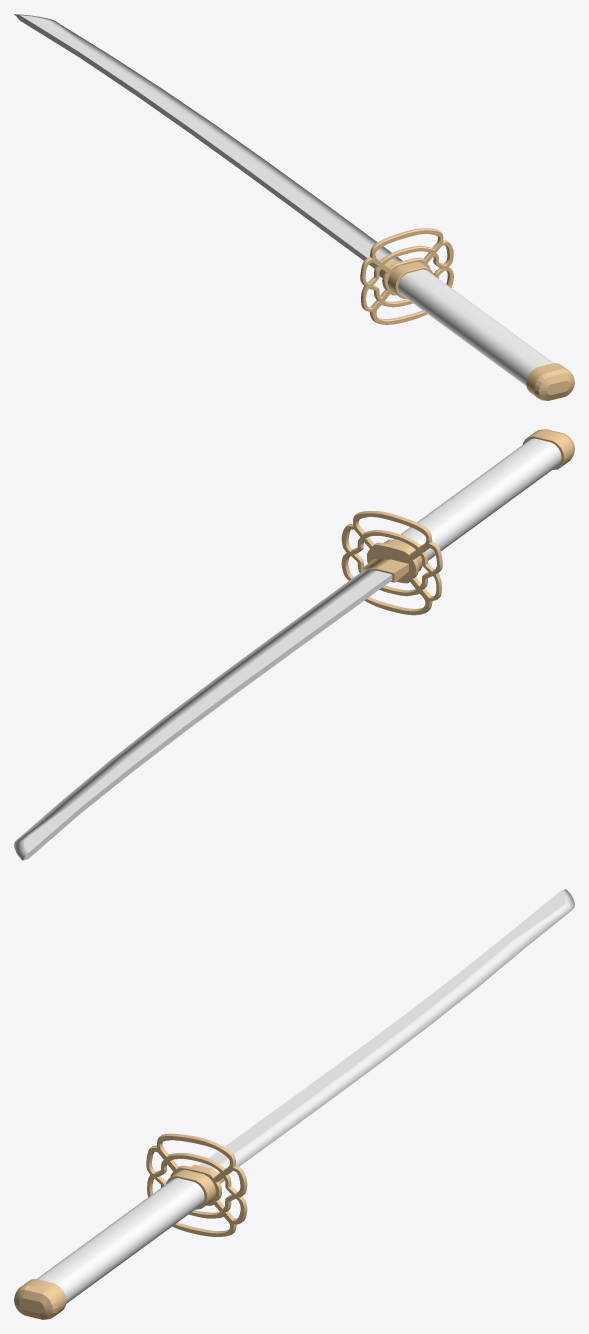
File: katana.glb
3 views of the same model, one above another, from view 1: azimuth 30°, elevation 25°; view 2: azimuth 150°, elevation 25°; view 3: azimuth 330°, elevation 25° (orthographic). The views are drawn at different scales.
Parts seen in each view (by area): view 1: blade, handgrip1, tsuba, handgrip2; view 2: blade, handgrip1, tsuba, handgrip2, blade base; view 3: blade, handgrip1, tsuba, handgrip2.
Part boxes in pixels (x1,y1,x2,y2): blade: (14,14,402,268); handgrip1: (398,269,553,385); tsuba: (360,228,453,324); handgrip2: (388,262,574,400); blade: (14,570,392,860); handgrip1: (394,438,561,560); tsuba: (341,511,442,615); handgrip2: (383,429,574,570); blade base: (360,559,408,582); blade: (199,889,574,1173); handgrip1: (37,1178,204,1303); tsuba: (146,1133,247,1236); handgrip2: (14,1169,215,1319).
Bounding box in the file's own units: 0.6763 × 0.626 × 6.6.
